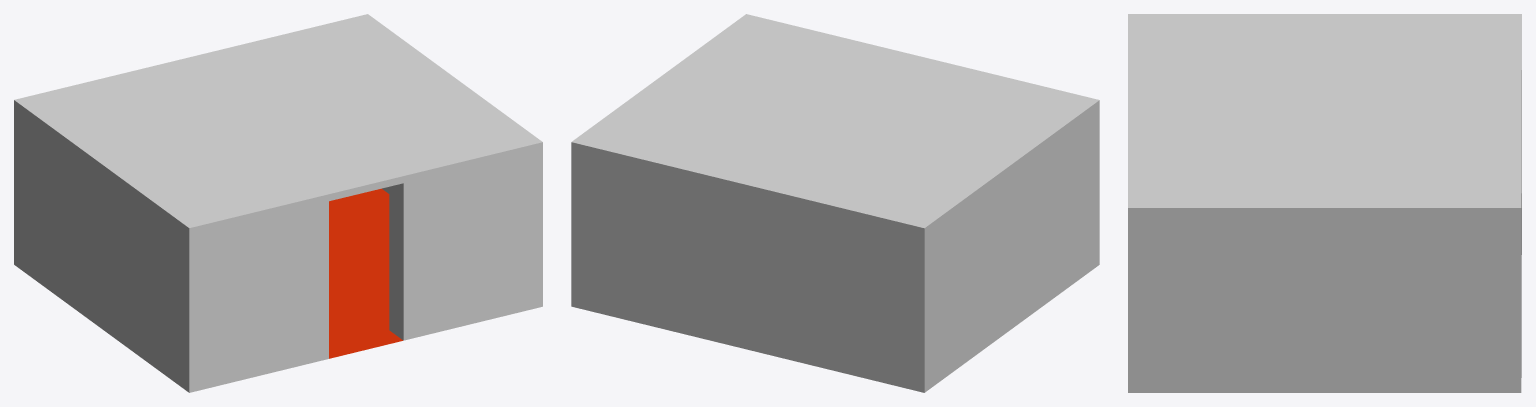
The model's file is FirstRoom.fbx.
3 renders of one model, left to right at view 1: azimuth 30°, elevation 25°; view 2: azimuth 150°, elevation 25°; view 3: azimuth 270°, elevation 25°, orthographic. The views are drawn at different scales.
Parts seen in each view (by area): view 1: Cube; view 2: Cube; view 3: Cube.
Boxes of the visible parts, box(x1,y1,x2,y2) form: Cube: box(14, 14, 542, 392); Cube: box(571, 14, 1099, 392); Cube: box(1128, 14, 1521, 392).
Size of the model in its own units: 634 by 282 by 544.
